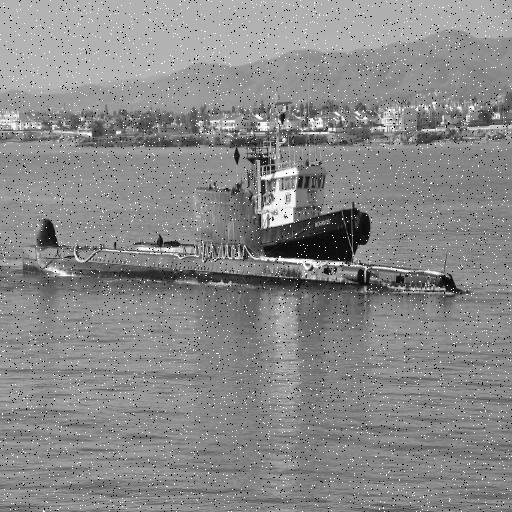submarine: (21, 186, 465, 297)
